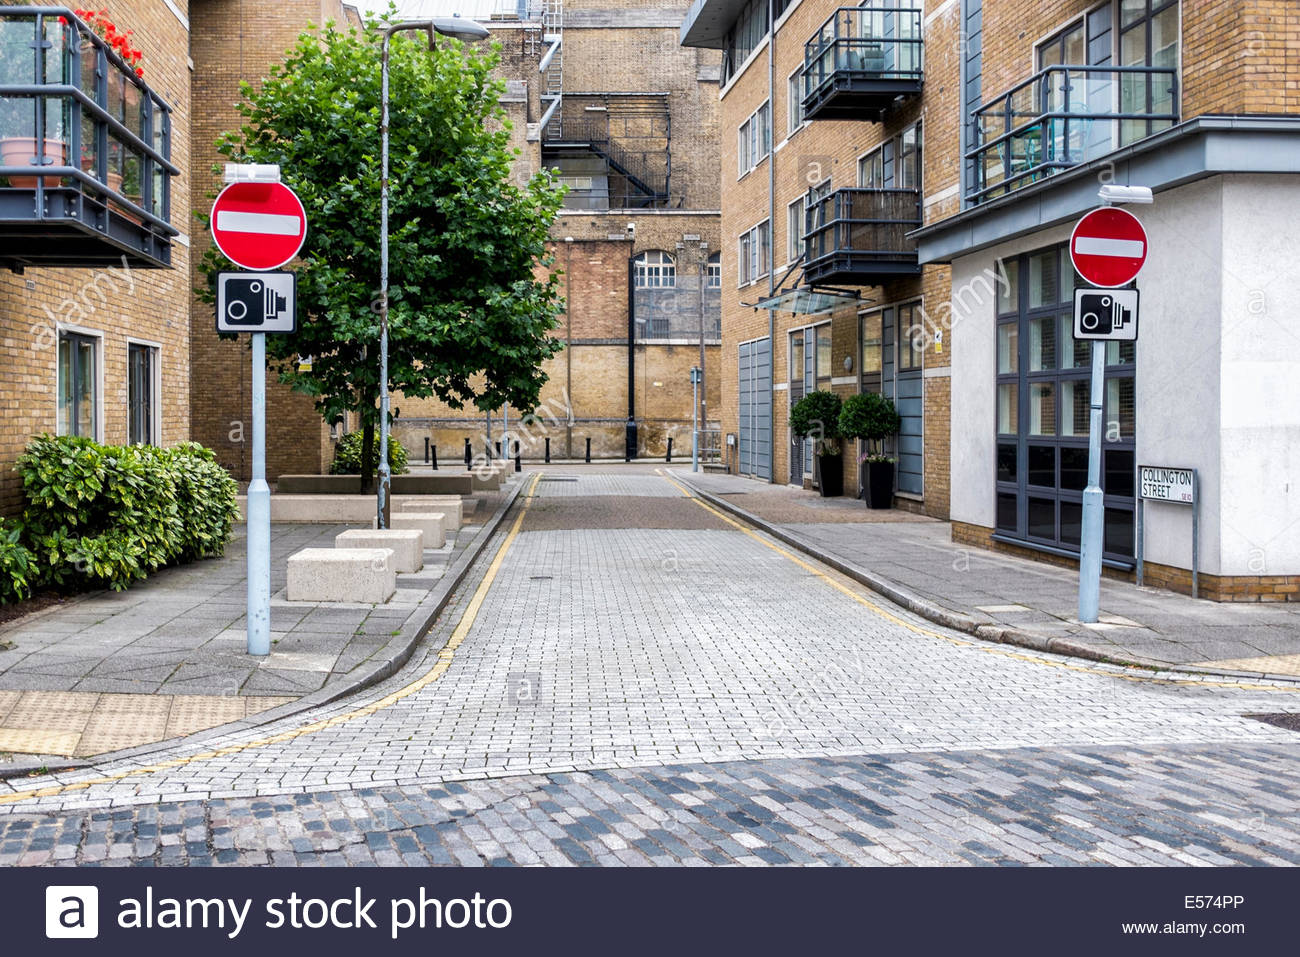No_entry: (209, 179, 309, 271), (1068, 206, 1149, 287)
